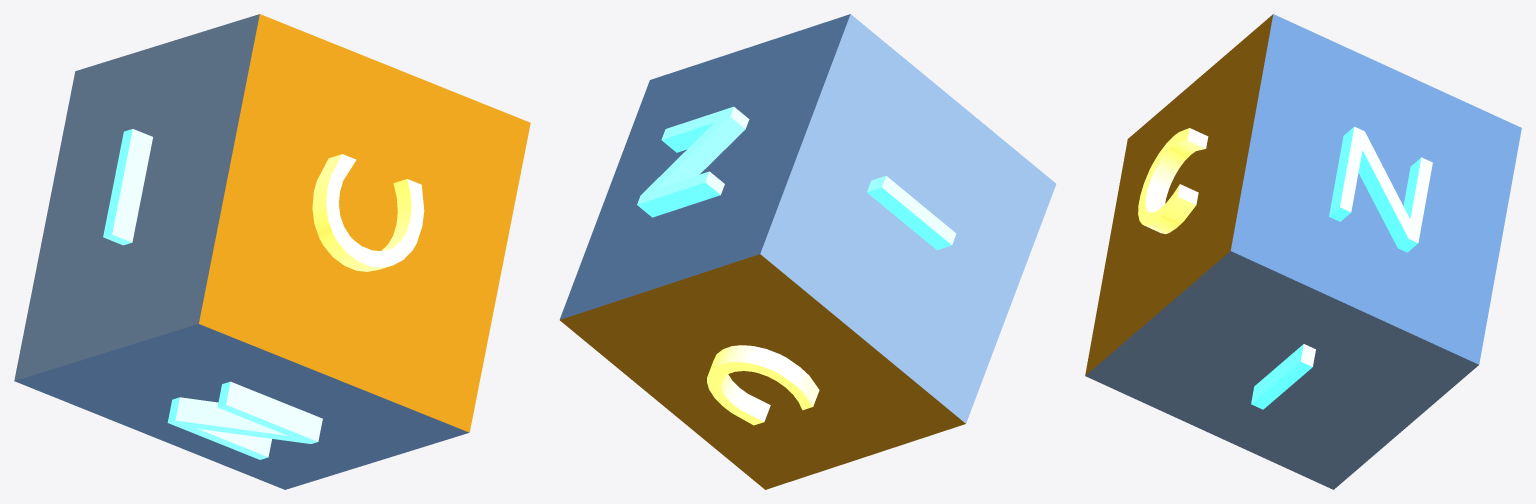
The model's file is inc.gltf.
3 views of the same model, side by side, from view 1: azimuth 30°, elevation 25°; view 2: azimuth 150°, elevation 25°; view 3: azimuth 270°, elevation 25° (orthographic). The views are drawn at different scales.
Parts seen in each view (by area): view 1: Cube, Text004, Text002, Text001; view 2: Cube, Text005, Text003, Text001; view 3: Cube, Text005, Text002, Text.
Part boxes in pixels (<box>): Cube: <box>14,14,530,489</box>; Text004: <box>167,381,322,459</box>; Text002: <box>312,154,424,271</box>; Text001: <box>103,129,152,245</box>; Cube: <box>559,14,1056,489</box>; Text005: <box>637,106,749,217</box>; Text003: <box>707,345,819,425</box>; Text001: <box>867,176,956,250</box>; Cube: <box>1085,14,1521,489</box>; Text005: <box>1329,126,1432,252</box>; Text002: <box>1138,128,1208,233</box>; Text: <box>1251,344,1315,409</box>.
Bounding box in the file's own units: 3 × 3.41 × 3.
